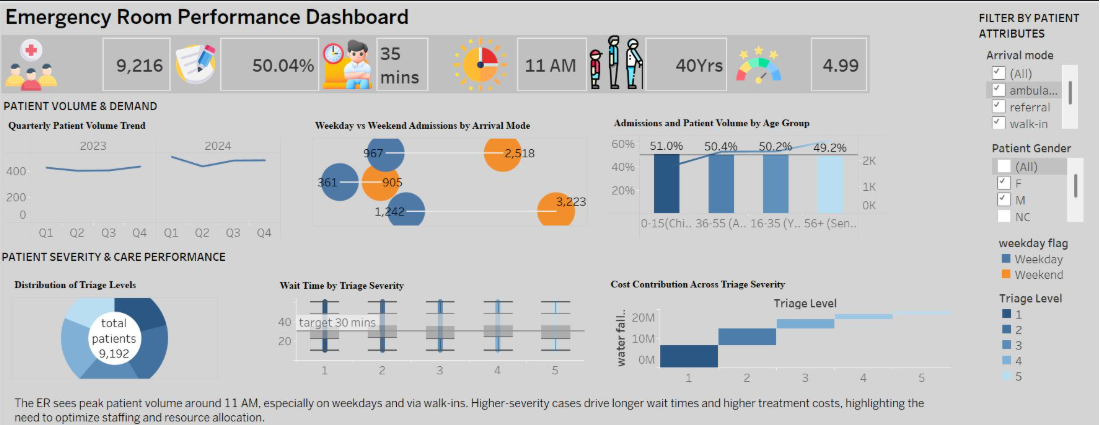

The dashboard page shown, as its layout file describes it:
{"tool":"tableau","page":{"name":"ER dashboard","canvas":[1000,1000],"units":"permille","ordinal":0},"visuals":[{"type":"text","box":[4.4,11.3,991.1,66.5]},{"type":"text","box":[879.4,24.1,113.9,77.8]},{"type":"image","param":"C:/Users/tejas/Downloads/crowd.png","box":[5.4,84.3,88.3,133.9]},{"type":"worksheet","title":"count of patients","mark":"Automatic","box":[93.7,84.3,65.5,133.9]},{"type":"image","param":"C:/Users/tejas/Downloads/letter.png","box":[159.4,84.3,40,133.9]},{"type":"worksheet","title":"admission rate","mark":"Automatic","box":[199.4,84.3,93.1,133.9]},{"type":"image","param":"C:/Users/tejas/Downloads/waiting-room.png","box":[291.9,84.3,47.8,133.9]},{"type":"worksheet","title":"median wait time","mark":"Automatic","box":[339.7,84.3,51.1,133.9]},{"type":"image","param":"C:/Users/tejas/Downloads/peak.png","box":[408.1,84.3,57.2,133.9]},{"type":"worksheet","title":"peak admission hour","mark":"Automatic","box":[465.3,84.3,67.2,133.9]},{"type":"image","param":"C:/Users/tejas/Downloads/age-range.png","box":[532.5,84.3,48.3,133.9]},{"type":"worksheet","title":"average patient age","mark":"Automatic","box":[580.8,84.3,77.9,133.9]},{"type":"image","param":"C:/Users/tejas/Downloads/score.png","box":[657.5,84.3,71.2,133.9]},{"type":"worksheet","title":"avg patient satisfaction score","mark":"Automatic","box":[728.8,84.3,55,133.9]},{"type":"filter","title":"Admission Rate vs Patient Volume by Age Group","param":"[federated.0yq1oah1akwllk18mrbsb067d5jz].[none:Arrival mode:nk]","box":[888.5,112.3,82.3,187.2]},{"type":"text","box":[5.1,215.3,212.1,60.7]},{"type":"worksheet","title":"Admission Rate vs Patient Volume by Age Group","mark":"Bar","rows":["Calculation_794322384581771270","Patient Id"],"cols":["Calculation_794322451928514561"],"box":[539.7,234.1,272.4,346.8]},{"type":"worksheet","title":"Weekday vs Weekend Admissions by Arrival Mode","mark":"Circle","rows":["Arrival mode"],"cols":["Patient Id","Patient Id"],"box":[271.8,239.9,272.4,358.4]},{"type":"filter","title":"Admission Rate vs Patient Volume by Age Group","param":"[federated.0yq1oah1akwllk18mrbsb067d5jz].[none:Patient Gender:nk]","box":[893.6,324.6,82.3,187.2]},{"type":"legend","title":"Weekday vs Weekend Admissions by Arrival Mode","param":"[federated.0yq1oah1akwllk18mrbsb067d5jz].[none:Calculation_2359604733331746816:n","box":[899.4,540.3,81.1,123.1]},{"type":"text","box":[3.2,553.5,242.5,73.7]},{"type":"worksheet","title":"Total Emergency Care Cost by Patient Severity (2)","mark":"GanttBar","cols":["Triage Level"],"box":[536.7,602.6,332.8,314]},{"type":"worksheet","title":"Triage breakdown","mark":"Pie","cols":["Calculation_794322452301684741","Calculation_794322452301684741"],"box":[2.2,604,210,298.4]},{"type":"worksheet","title":"wait time vs triage severity","mark":"Circle","rows":["Patient Waittime"],"cols":["Triage Level"],"box":[240,605.4,301.1,294.2]},{"type":"legend","title":"Triage breakdown","param":"[federated.0yq1oah1akwllk18mrbsb067d5jz].[none:Triage Level:ok]","box":[899.9,665.7,80.4,215]}]}

Visuals, with their boxes on the dashboard's canvas, which has no fixed pixel size, in thousandths of its width and height (x1, y1, x2, y2). These are canvas units, not pixel positions in the 1100x425 screenshot, which may show the page scaled, cropped or inside an application window:
text: bbox=[4, 11, 996, 78]
text: bbox=[879, 24, 993, 102]
image: bbox=[5, 84, 94, 218]
"count of patients" worksheet: bbox=[94, 84, 159, 218]
image: bbox=[159, 84, 199, 218]
"admission rate" worksheet: bbox=[199, 84, 292, 218]
image: bbox=[292, 84, 340, 218]
"median wait time" worksheet: bbox=[340, 84, 391, 218]
image: bbox=[408, 84, 465, 218]
"peak admission hour" worksheet: bbox=[465, 84, 532, 218]
image: bbox=[532, 84, 581, 218]
"average patient age" worksheet: bbox=[581, 84, 659, 218]
image: bbox=[658, 84, 729, 218]
"avg patient satisfaction score" worksheet: bbox=[729, 84, 784, 218]
"Admission Rate vs Patient Volume by Age Group" filter: bbox=[888, 112, 971, 300]
text: bbox=[5, 215, 217, 276]
"Admission Rate vs Patient Volume by Age Group" worksheet (Bar marks): bbox=[540, 234, 812, 581]
"Weekday vs Weekend Admissions by Arrival Mode" worksheet (Circle marks): bbox=[272, 240, 544, 598]
"Admission Rate vs Patient Volume by Age Group" filter: bbox=[894, 325, 976, 512]
"Weekday vs Weekend Admissions by Arrival Mode" legend: bbox=[899, 540, 980, 663]
text: bbox=[3, 554, 246, 627]
"Total Emergency Care Cost by Patient Severity (2)" worksheet (GanttBar marks): bbox=[537, 603, 870, 917]
"Triage breakdown" worksheet (Pie marks): bbox=[2, 604, 212, 902]
"wait time vs triage severity" worksheet (Circle marks): bbox=[240, 605, 541, 900]
"Triage breakdown" legend: bbox=[900, 666, 980, 881]
